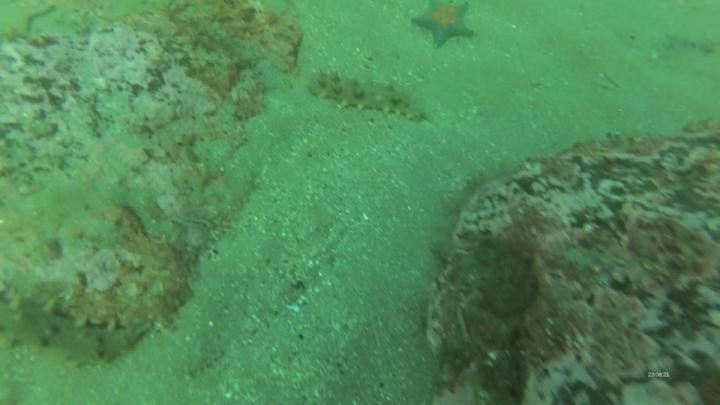holothurian: (1, 303, 142, 367), (307, 68, 425, 123)
starfish: (411, 2, 478, 50)
